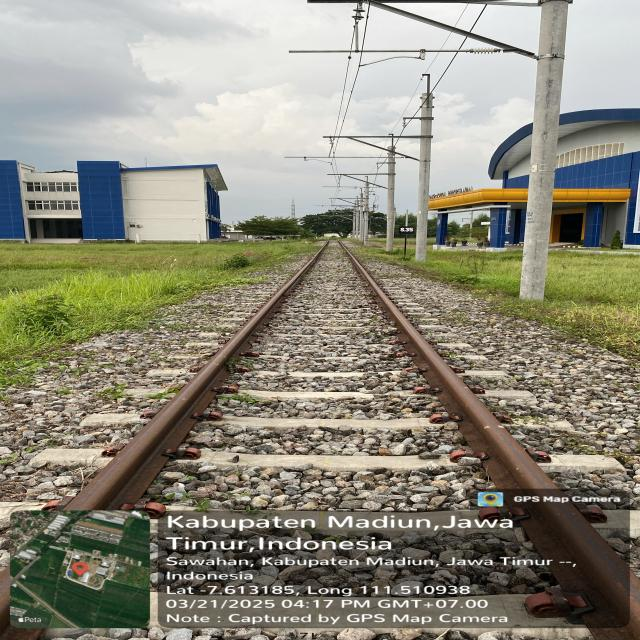rail-detection: (67, 246, 325, 510), (338, 242, 555, 495), (530, 507, 634, 624)
